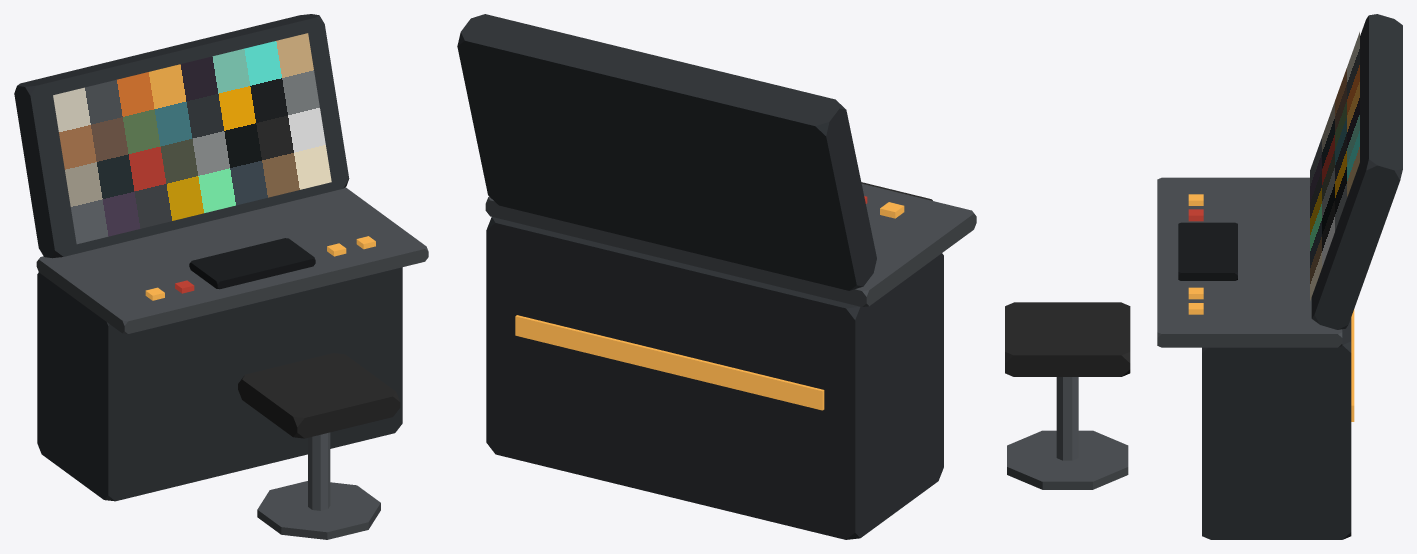
File: hum_crew_console.glb
3 renders of one model, left to right at view 1: azimuth 30°, elevation 25°; view 2: azimuth 150°, elevation 25°; view 3: azimuth 270°, elevation 25°, orthographic. The views are drawn at different scales.
Parts seen in each view (by area): view 1: console, screen; view 2: console; view 3: console, screen.
Part boxes in pixels (x1,y1,x2,y2): console: (14,14,428,539); screen: (53,33,331,244); console: (457,14,976,539); console: (1005,14,1402,539); screen: (1310,32,1359,300).
Size of the model in its own units: 1.24 by 1.39 by 1.33.
3 materials, 3 textured.
